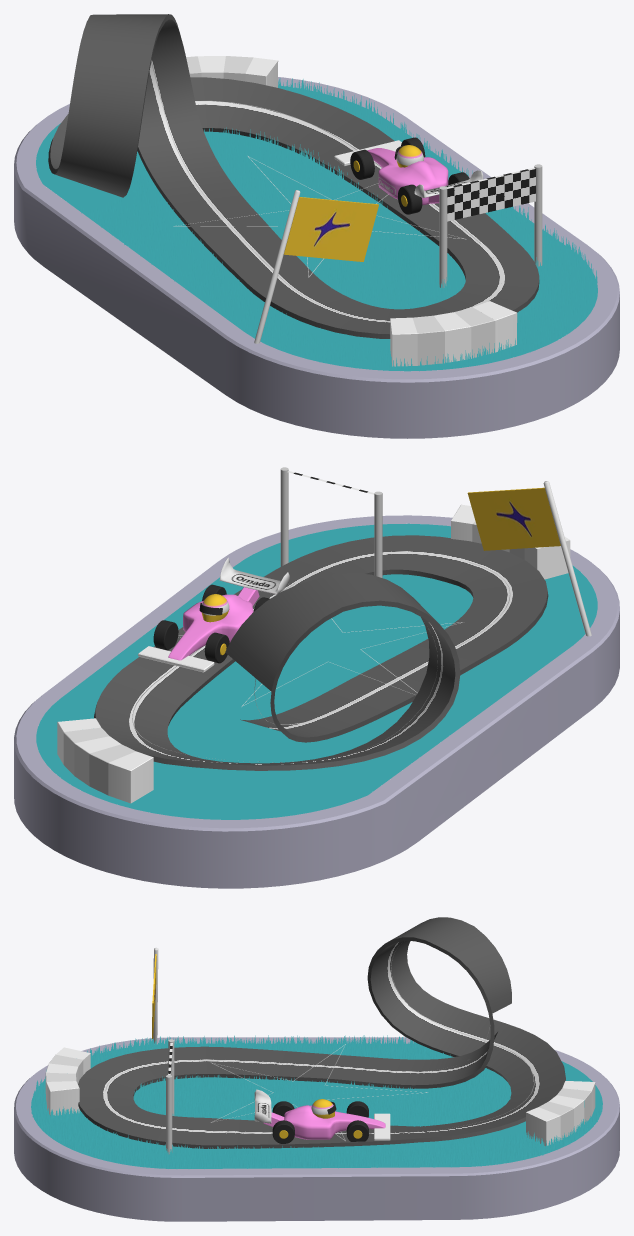
Rendered from race-transformed.glb.
3 renders of one model, top to bottom at view 1: azimuth 30°, elevation 25°; view 2: azimuth 150°, elevation 25°; view 3: azimuth 270°, elevation 25°, orthographic. The views are drawn at different scales.
Visible parts, largest first — view 1: raceRoad, raceBase, raceGrassFloor, raceGrassBlades, raceBumperBlack, raceFlagFlag, raceBumperWhite, raceFinishFlag, raceCarBase, raceFinishPole, raceCarWheels, raceFlagPole (+1 smaller); view 2: raceBase, raceGrassFloor, raceRoad, raceBumperBlack, raceFlagFlag, raceCarBase, raceBumperWhite, raceFinishPole, raceCarWheels, raceCarTail, raceFlagPole, raceCarFront (+1 smaller); view 3: raceRoad, raceBase, raceGrassBlades, raceGrassFloor, raceBumperBlack, raceCarBase, raceBumperWhite, raceCarWheels, raceFinishPole, raceRoadCurve, raceCarTail.
Boxes of the visible parts, x1,y1,x2,y2 form: raceRoad: (48, 14, 539, 338); raceBase: (14, 77, 619, 438); raceGrassFloor: (36, 85, 597, 371); raceGrassBlades: (81, 78, 597, 371); raceBumperBlack: (198, 56, 517, 366); raceFlagFlag: (283, 197, 378, 261); raceBumperWhite: (186, 56, 495, 365); raceFinishFlag: (447, 168, 535, 221); raceCarBase: (367, 148, 448, 204); raceFinishPole: (439, 164, 542, 287); raceCarWheels: (350, 137, 469, 214); raceFlagPole: (254, 190, 300, 343); raceBase: (14, 515, 619, 888); raceGrassFloor: (36, 523, 597, 819); raceRoad: (94, 535, 548, 770); raceBumperBlack: (57, 504, 570, 803); raceFlagFlag: (467, 487, 560, 550); raceCarBase: (168, 594, 253, 660); raceBumperWhite: (63, 521, 524, 795); raceFinishPole: (280, 467, 382, 577); raceCarWheels: (153, 584, 269, 663); raceCarTail: (219, 557, 289, 594); raceFlagPole: (543, 481, 591, 636); raceCarFront: (138, 646, 214, 672); raceRoad: (78, 917, 565, 1148); raceBase: (14, 1037, 619, 1221); raceGrassBlades: (31, 1035, 602, 1168); raceGrassFloor: (31, 1043, 602, 1168); raceBumperBlack: (46, 1047, 595, 1146); raceCarBase: (284, 1105, 385, 1139); raceBumperWhite: (45, 1054, 591, 1139); raceCarWheels: (272, 1101, 368, 1143); raceFinishPole: (166, 1039, 174, 1154); raceRoadCurve: (105, 945, 534, 1133); raceCarTail: (254, 1089, 271, 1123).
Size of the model in its own units: 92.89 by 52.87 by 163.
Materials: 15 (4 with a texture image).
